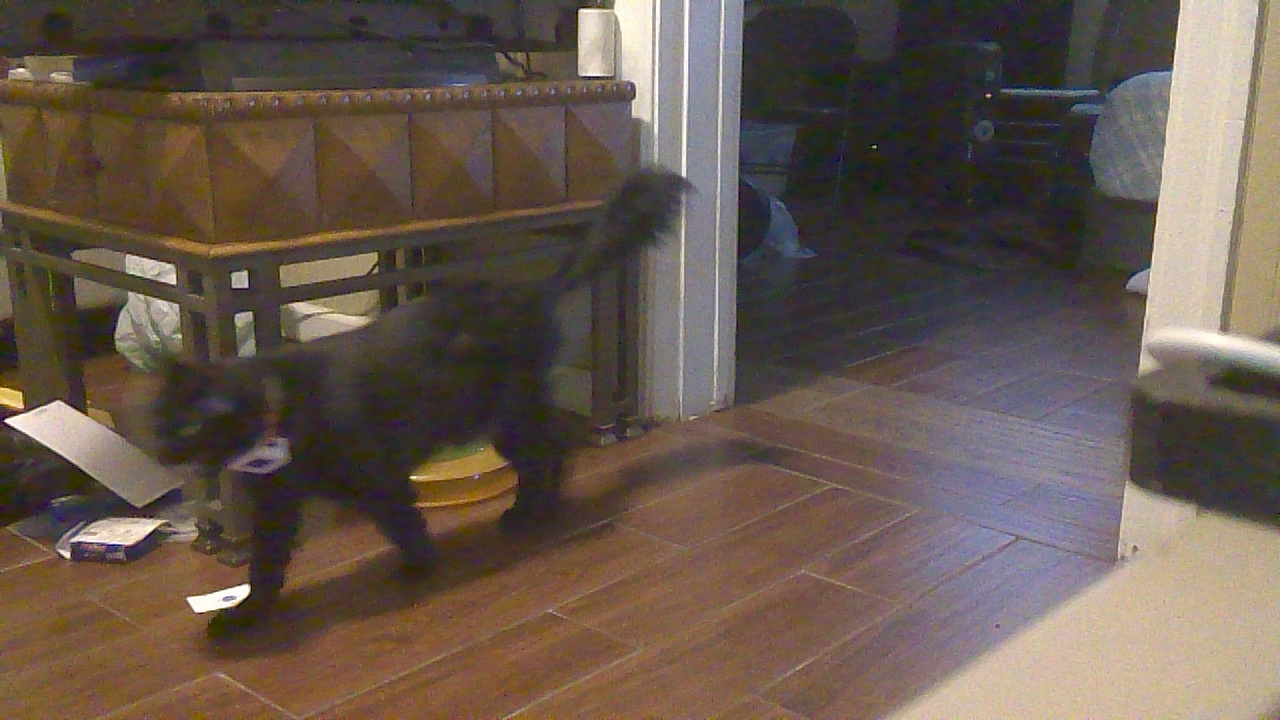cat: (149, 172, 698, 643)
